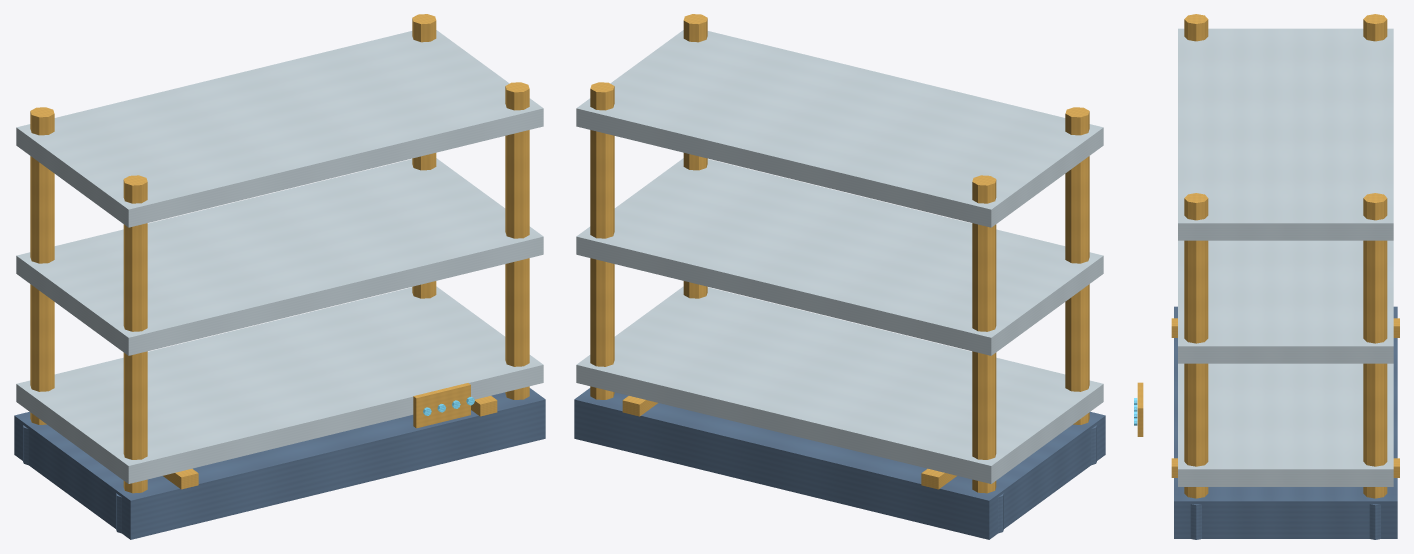
File: atlas100-s057-a06.glb
3 views of the same model, side by side, from view 1: azimuth 30°, elevation 25°; view 2: azimuth 150°, elevation 25°; view 3: azimuth 270°, elevation 25° (orthographic). The views are drawn at different scales.
Visible parts, largest first — view 1: atlas100-s057-a06:part-013, atlas100-s057-a06:part-012, atlas100-s057-a06:part-011, atlas100-s057-a06:part-000, atlas100-s057-a06:part-005, atlas100-s057-a06:part-009, atlas100-s057-a06:part-003, atlas100-s057-a06:part-014, atlas100-s057-a06:part-007; view 2: atlas100-s057-a06:part-013, atlas100-s057-a06:part-011, atlas100-s057-a06:part-012, atlas100-s057-a06:part-000, atlas100-s057-a06:part-003, atlas100-s057-a06:part-007, atlas100-s057-a06:part-005, atlas100-s057-a06:part-009; view 3: atlas100-s057-a06:part-013, atlas100-s057-a06:part-012, atlas100-s057-a06:part-011, atlas100-s057-a06:part-000, atlas100-s057-a06:part-009, atlas100-s057-a06:part-007, atlas100-s057-a06:part-003, atlas100-s057-a06:part-005, atlas100-s057-a06:part-008, atlas100-s057-a06:part-010, atlas100-s057-a06:part-014.
Boxes of the visible parts, <box> form: atlas100-s057-a06:part-013: <box>16,30,543,227</box>; atlas100-s057-a06:part-012: <box>16,158,543,355</box>; atlas100-s057-a06:part-011: <box>16,286,543,483</box>; atlas100-s057-a06:part-000: <box>14,388,545,539</box>; atlas100-s057-a06:part-005: <box>123,175,147,493</box>; atlas100-s057-a06:part-009: <box>505,82,529,399</box>; atlas100-s057-a06:part-003: <box>30,107,54,424</box>; atlas100-s057-a06:part-014: <box>413,383,470,428</box>; atlas100-s057-a06:part-007: <box>412,14,436,298</box>; atlas100-s057-a06:part-013: <box>576,30,1103,227</box>; atlas100-s057-a06:part-011: <box>576,286,1103,483</box>; atlas100-s057-a06:part-012: <box>576,158,1103,355</box>; atlas100-s057-a06:part-000: <box>574,388,1105,539</box>; atlas100-s057-a06:part-003: <box>972,175,996,493</box>; atlas100-s057-a06:part-007: <box>590,82,614,399</box>; atlas100-s057-a06:part-005: <box>1065,107,1089,424</box>; atlas100-s057-a06:part-009: <box>683,14,707,298</box>; atlas100-s057-a06:part-013: <box>1178,28,1393,240</box>; atlas100-s057-a06:part-012: <box>1178,240,1393,363</box>; atlas100-s057-a06:part-011: <box>1178,363,1393,486</box>; atlas100-s057-a06:part-000: <box>1174,306,1397,538</box>; atlas100-s057-a06:part-009: <box>1184,193,1208,498</box>; atlas100-s057-a06:part-007: <box>1363,193,1387,498</box>; atlas100-s057-a06:part-003: <box>1363,14,1387,41</box>; atlas100-s057-a06:part-005: <box>1184,14,1208,41</box>; atlas100-s057-a06:part-008: <box>1369,504,1380,539</box>; atlas100-s057-a06:part-010: <box>1190,504,1201,539</box>; atlas100-s057-a06:part-014: <box>1137,382,1143,436</box>.
Size of the model in its own units: 2.91 by 2.3 by 1.66.
Materials: 4 (4 with a texture image).
